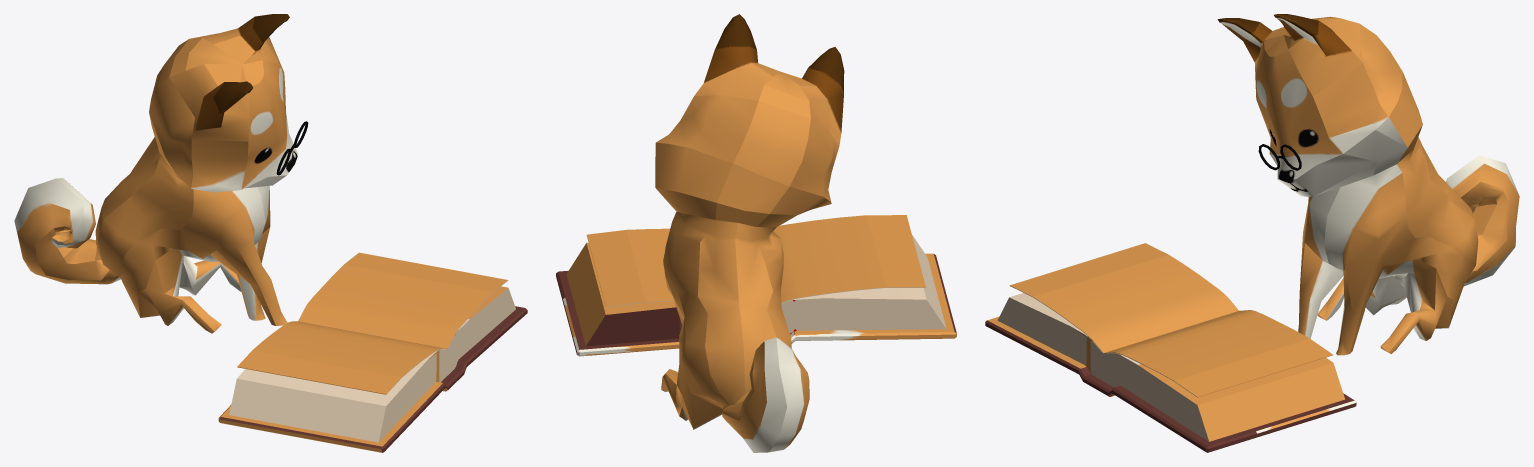
The model's file is book_frame22.obj.
3 views of the same model, side by side, from view 1: azimuth 30°, elevation 25°; view 2: azimuth 150°, elevation 25°; view 3: azimuth 270°, elevation 25° (orthographic). The views are drawn at different scales.
Visible parts, largest first — view 1: StidyGlasses_Computer_Sitting:Sitting:newRigging:BodzL1, polySurface1; view 2: StidyGlasses_Computer_Sitting:Sitting:newRigging:BodzL1, polySurface1; view 3: StidyGlasses_Computer_Sitting:Sitting:newRigging:BodzL1, polySurface1.
Part boxes in pixels (x1=…): StidyGlasses_Computer_Sitting:Sitting:newRigging:BodzL1: x1=14, y1=14, x2=298, y2=333; polySurface1: x1=218, y1=252, x2=527, y2=452; StidyGlasses_Computer_Sitting:Sitting:newRigging:BodzL1: x1=655, y1=14, x2=844, y2=452; polySurface1: x1=556, y1=215, x2=956, y2=356; StidyGlasses_Computer_Sitting:Sitting:newRigging:BodzL1: x1=1217, y1=14, x2=1519, y2=355; polySurface1: x1=985, y1=243, x2=1356, y2=452.
Bounding box in the file's own units: 9.18 × 7.69 × 11.01.
Materials: 4 (4 with a texture image).
